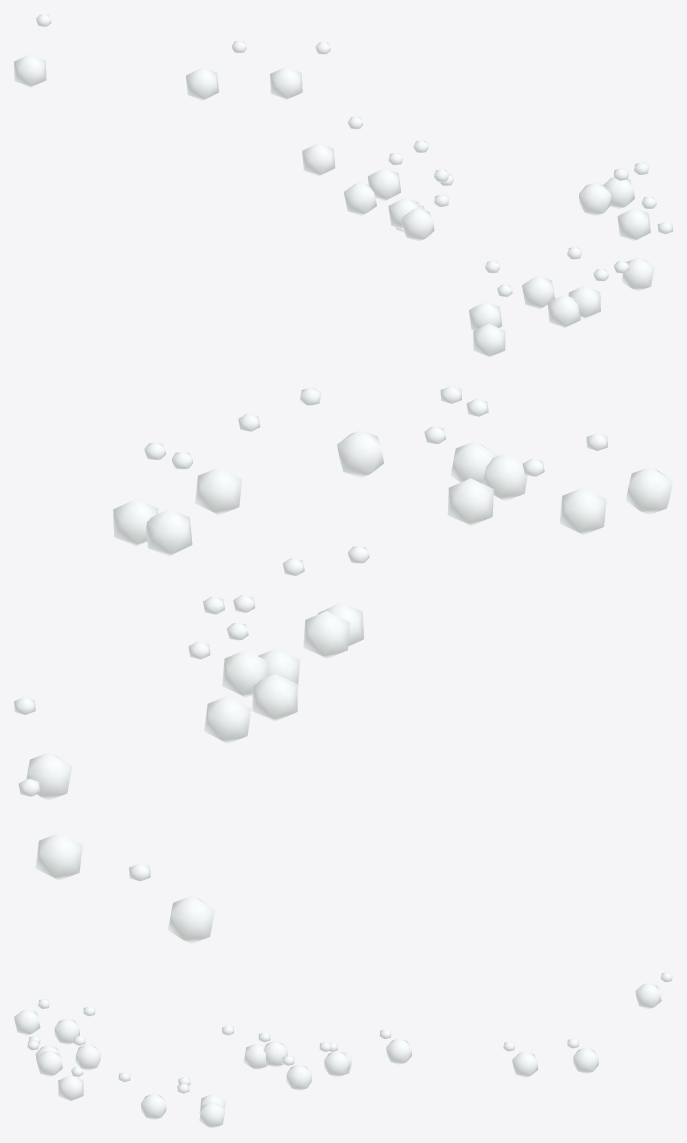
Rendered from model_chunk_7.glb.
The picture shows the model from 3 angles, top to bottom: view 1: azimuth 30°, elevation 25°; view 2: azimuth 150°, elevation 25°; view 3: azimuth 270°, elevation 25°; orthographic projection. The views are drawn at different scales.
Visible parts, largest first — view 1: SplashParticle01536, SplashParticle01652, SplashParticle01520, SplashParticle01639, SplashParticle01644, SplashParticle01595, SplashParticle01559, SplashParticle01601, SplashParticle01555, SplashParticle01565, SplashParticle01633, SplashParticle01647 (+5 smaller); view 2: SplashParticle01565, SplashParticle01633, SplashParticle01632, SplashParticle01540, SplashParticle01595, SplashParticle01644, SplashParticle01601, SplashParticle01639, SplashParticle01520, SplashParticle01579, SplashParticle01536, SplashParticle01647 (+6 smaller); view 3: SplashParticle01579, SplashParticle01644, SplashParticle01647, SplashParticle01646, SplashParticle01565, SplashParticle01595, SplashParticle01596, SplashParticle01639, SplashParticle01652, SplashParticle01520, SplashParticle01557, SplashParticle01536 (+4 smaller).
Part boxes in pixels (box(x1,y1,x2,y2)): SplashParticle01536: box(473, 284, 512, 357); SplashParticle01652: box(270, 42, 330, 100); SplashParticle01520: box(14, 14, 51, 87); SplashParticle01639: box(302, 116, 362, 176); SplashParticle01644: box(186, 40, 246, 100); SplashParticle01595: box(617, 196, 656, 241); SplashParticle01559: box(547, 269, 608, 328); SplashParticle01601: box(579, 168, 628, 216); SplashParticle01555: box(401, 194, 449, 241); SplashParticle01565: box(522, 247, 582, 309); SplashParticle01633: box(343, 152, 403, 215); SplashParticle01647: box(367, 140, 428, 201); SplashParticle01565: box(424, 426, 493, 526); SplashParticle01633: box(227, 622, 297, 721); SplashParticle01632: box(282, 558, 349, 658); SplashParticle01540: box(522, 459, 606, 535); SplashParticle01595: box(195, 414, 260, 515); SplashParticle01644: box(18, 779, 82, 880); SplashParticle01601: box(146, 451, 192, 556); SplashParticle01639: box(188, 641, 251, 743); SplashParticle01520: box(129, 863, 214, 943); SplashParticle01579: box(299, 388, 383, 477); SplashParticle01536: box(586, 433, 672, 514); SplashParticle01647: box(203, 596, 268, 697); SplashParticle01579: box(58, 1067, 83, 1101); SplashParticle01644: box(567, 1038, 598, 1073); SplashParticle01647: box(319, 1042, 349, 1077); SplashParticle01646: box(282, 1056, 311, 1090); SplashParticle01565: box(73, 1036, 101, 1070); SplashParticle01595: box(118, 1072, 166, 1120); SplashParticle01596: box(177, 1083, 225, 1128); SplashParticle01639: box(379, 1029, 411, 1064); SplashParticle01652: box(503, 1041, 538, 1077); SplashParticle01520: box(635, 972, 672, 1009); SplashParticle01557: box(27, 1040, 62, 1076); SplashParticle01536: box(14, 999, 49, 1035).
Size of the model in its own units: 0.4738 by 0.1155 by 0.9954.
1 material, 1 textured.
